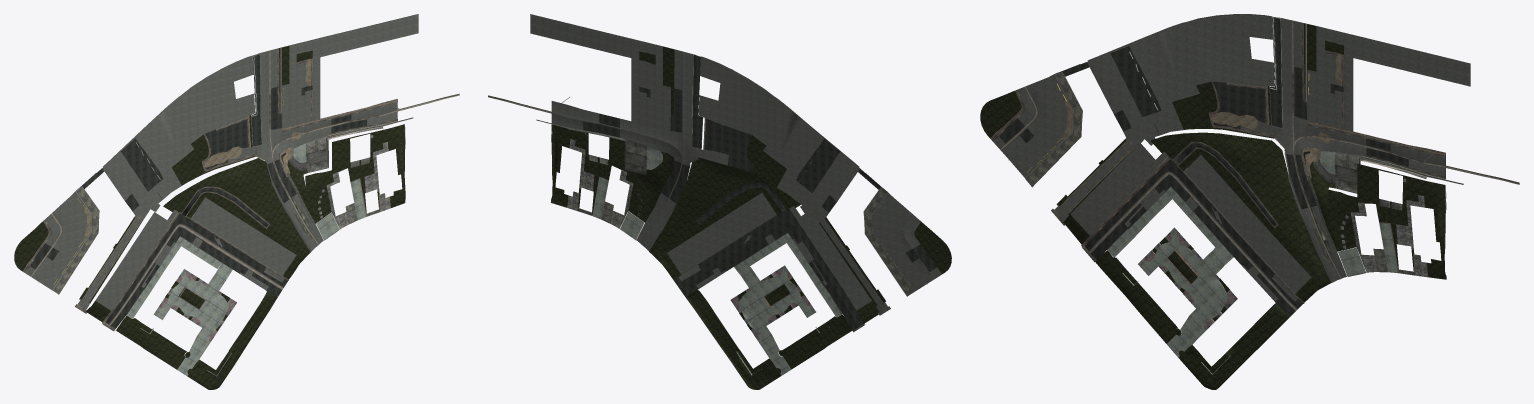
The model's file is SC11_ground00.fbx.
The picture shows the model from 3 angles, left to right: view 1: azimuth 30°, elevation 25°; view 2: azimuth 150°, elevation 25°; view 3: azimuth 330°, elevation 25°; orthographic projection. The views are drawn at different scales.
Parts seen in each view (by area): view 1: sc1_11_ground; view 2: sc1_11_ground; view 3: sc1_11_ground.
Boxes of the visible parts, x1,y1,x2,y2 form: sc1_11_ground: [14, 14, 459, 389]; sc1_11_ground: [488, 14, 951, 389]; sc1_11_ground: [980, 14, 1519, 389].
Size of the model in its own units: 17369 by 11810 by 686.
